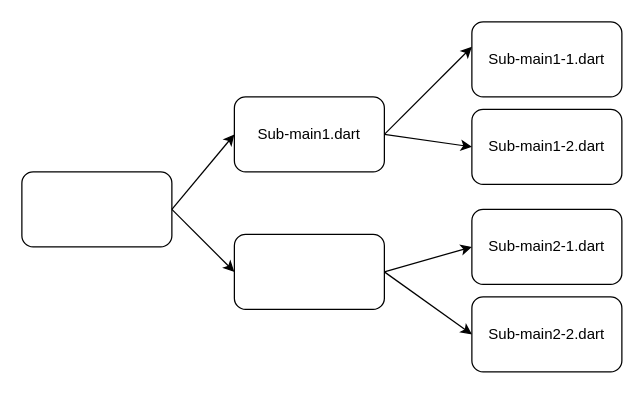
This 644x394 diagram has some shape labels left out. The shapes that lost their labels are listed below. From the top down, each one's centre as x and y in pixels, then its label:
At [96,209]: "main.dart".
At [308,271]: "Sub-main2.dart".
